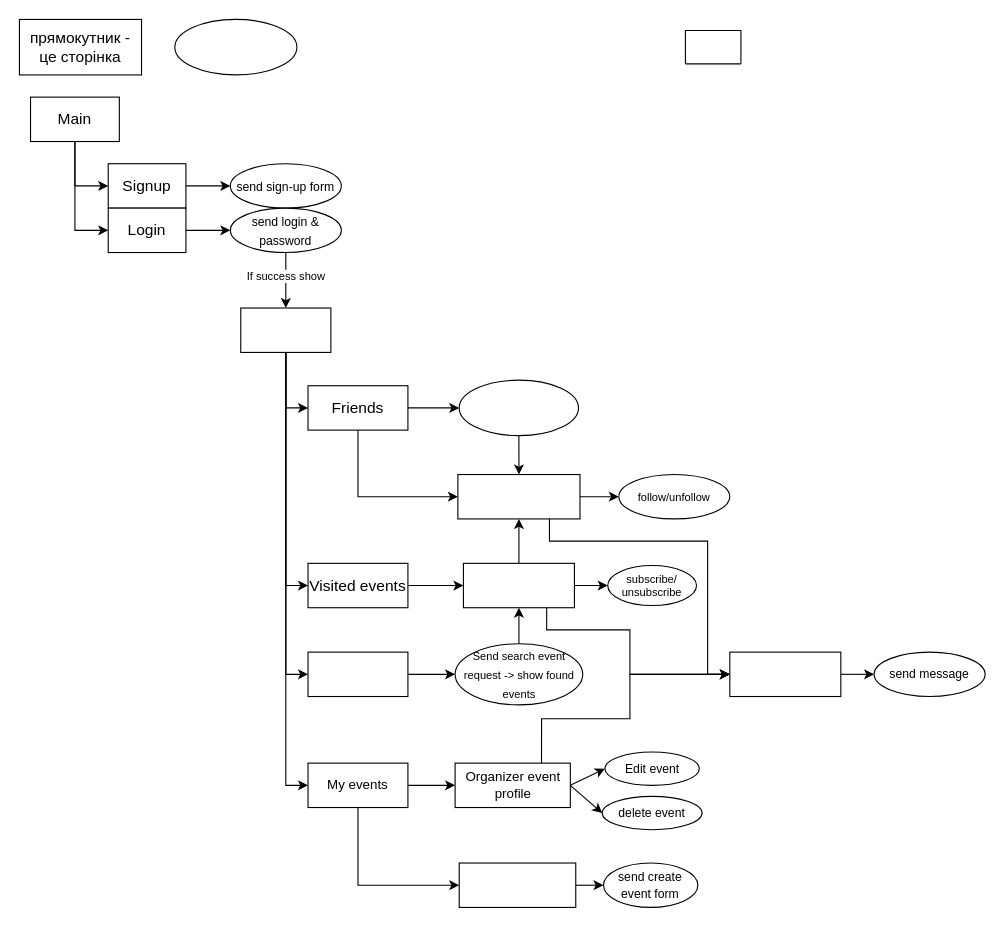
This 1005x927 diagram has some shape labels left out. The box of each missing label's shape, as (x1, y1, x2, y2) in pixels:
Chat room: (729, 651, 841, 697)
Create event form: (458, 862, 576, 907)
Event profile: (462, 562, 574, 608)
Find events: (307, 651, 408, 697)
List: (684, 29, 741, 64)
Own Profile: (240, 307, 331, 352)
Search friend by name ->show found people: (458, 379, 579, 436)
User profile: (457, 473, 580, 519)
овал - це дія: (174, 18, 297, 75)
